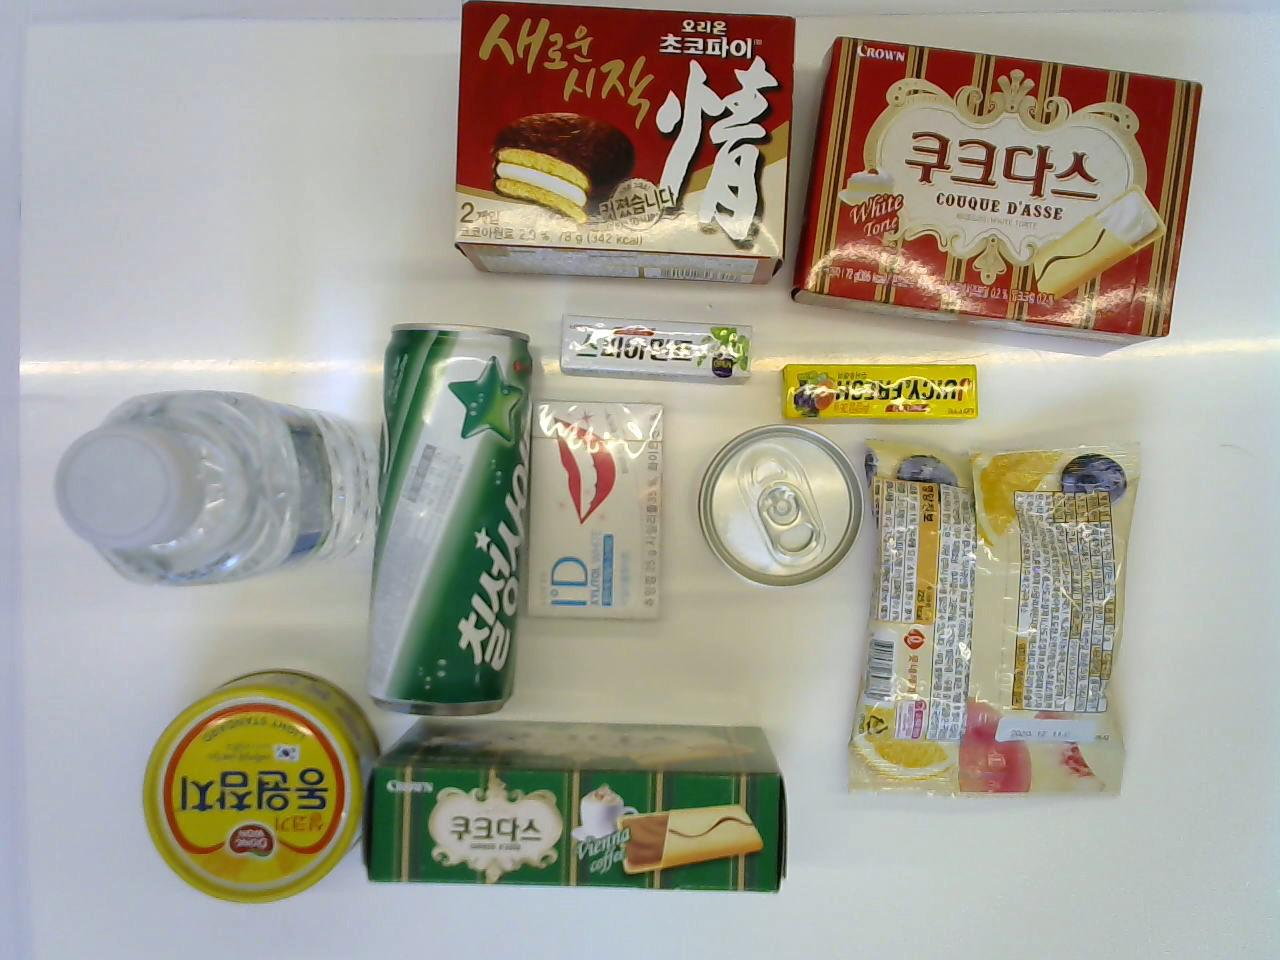ID_gum: (520, 388, 672, 632)
chocopie: (452, 3, 802, 289)
cidar: (356, 314, 527, 712)
coke: (696, 419, 864, 591)
couque_coffee: (365, 708, 796, 903)
couque_white: (789, 33, 1212, 352)
gumi_gumi: (829, 427, 1147, 811)
juicyfresh: (772, 350, 988, 429)
samdasu: (44, 383, 386, 592)
spearmint: (550, 301, 754, 385)
tuna: (131, 658, 389, 906)
